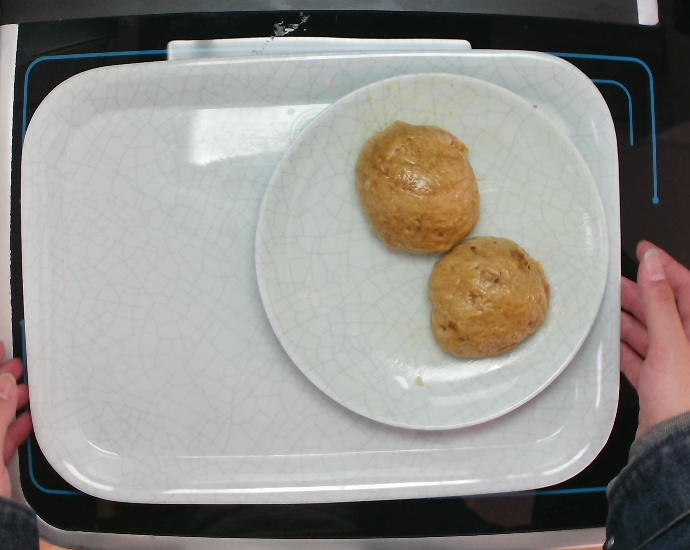JYsf-Da_Yuan_Pan: (256, 72, 613, 432)
